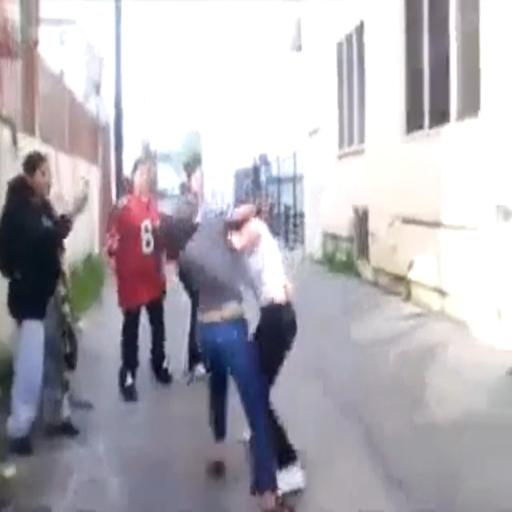violencia: (160, 191, 315, 510)
